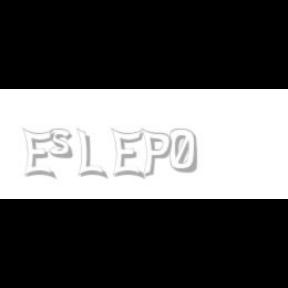0: (170, 128, 200, 174)
E: (110, 128, 144, 180), (22, 128, 55, 180)
L: (77, 128, 105, 180)
P: (140, 128, 172, 178)
s: (49, 128, 77, 160)
